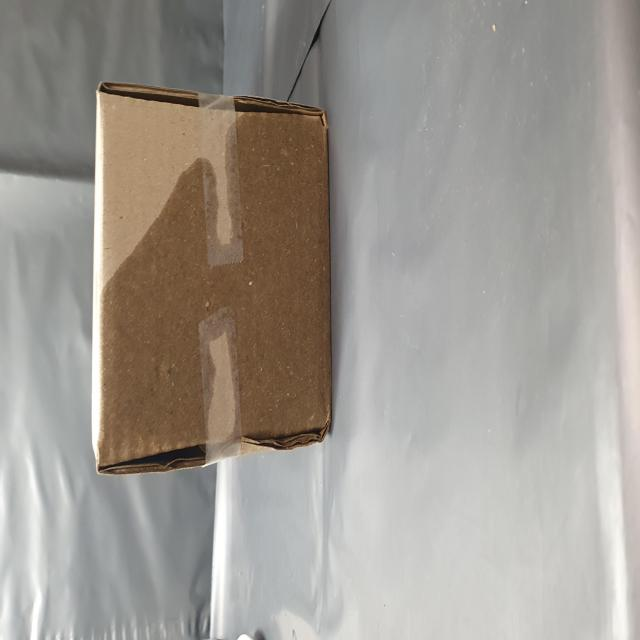wet: (96, 161, 297, 592)
